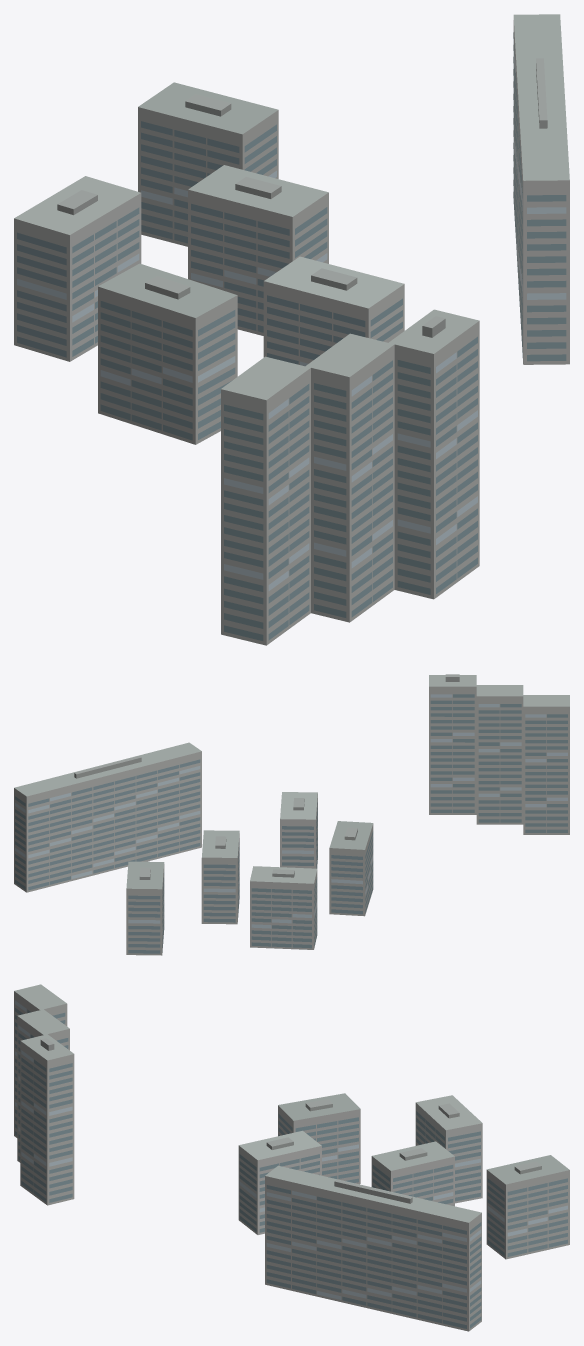
Rendered from apt-a13679903.glb.
3 renders of one model, top to bottom at view 1: azimuth 30°, elevation 25°; view 2: azimuth 150°, elevation 25°; view 3: azimuth 270°, elevation 25°, orthographic. The views are drawn at different scales.
Visible parts, largest first — view 1: apt-a13679903; view 2: apt-a13679903; view 3: apt-a13679903.
Boxes of the visible parts, box(x1,y1,x2,y2) form: apt-a13679903: box(14, 14, 569, 645); apt-a13679903: box(14, 674, 569, 955); apt-a13679903: box(14, 984, 569, 1331).
Size of the model in its own units: 182 by 63.4 by 212.
